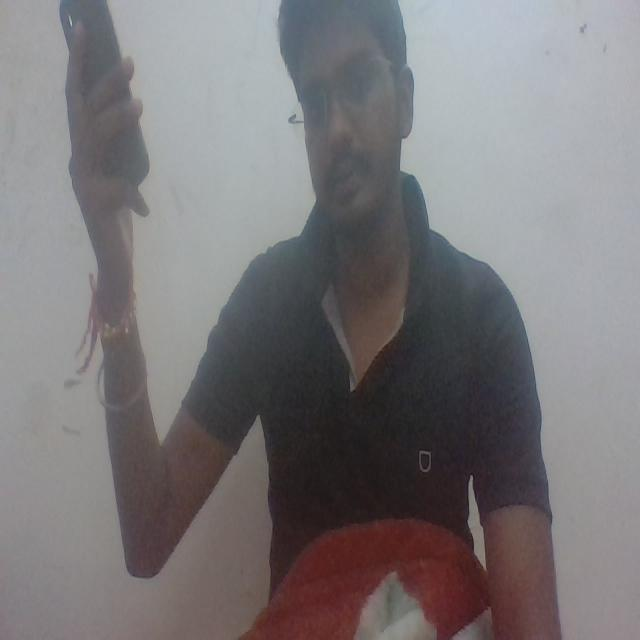Phone: (59, 0, 153, 190)
